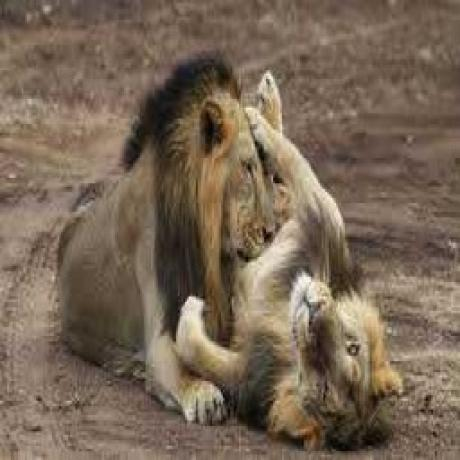Lion: (53, 42, 278, 429), (175, 105, 408, 450)
